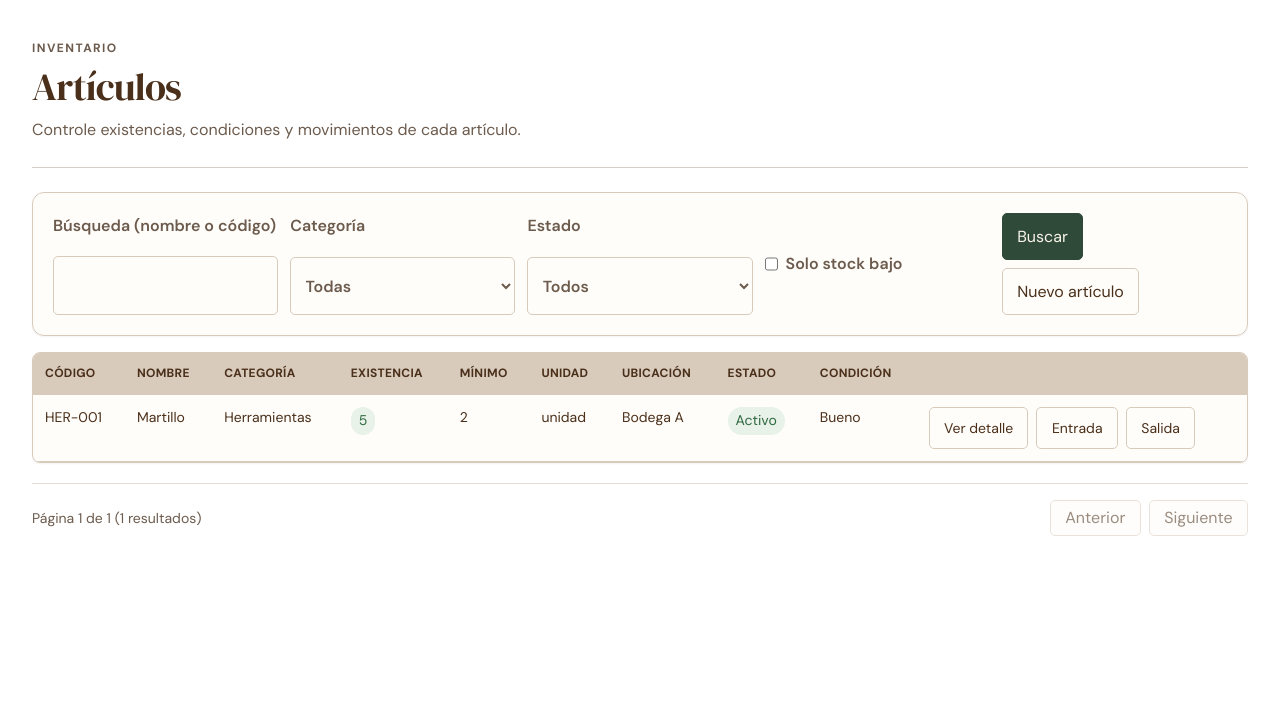
Test case: InventoryItemsPage › updates an existing item through the edit form
Click the button "Ver detalle": (979, 428) [929,407,1028,449]
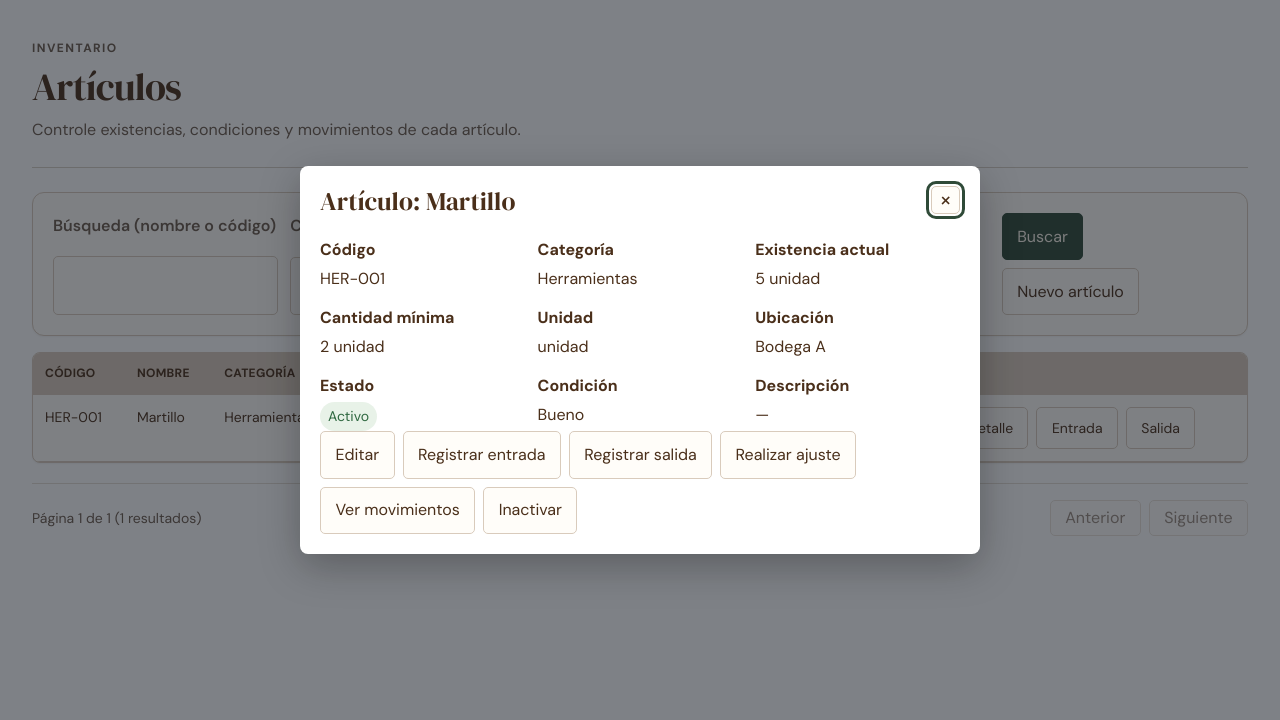
Now the dialog "Artículo: Martillo" is shown, box [300,166,980,554]
Click the button "Editar": (357, 455) [320,431,395,479]
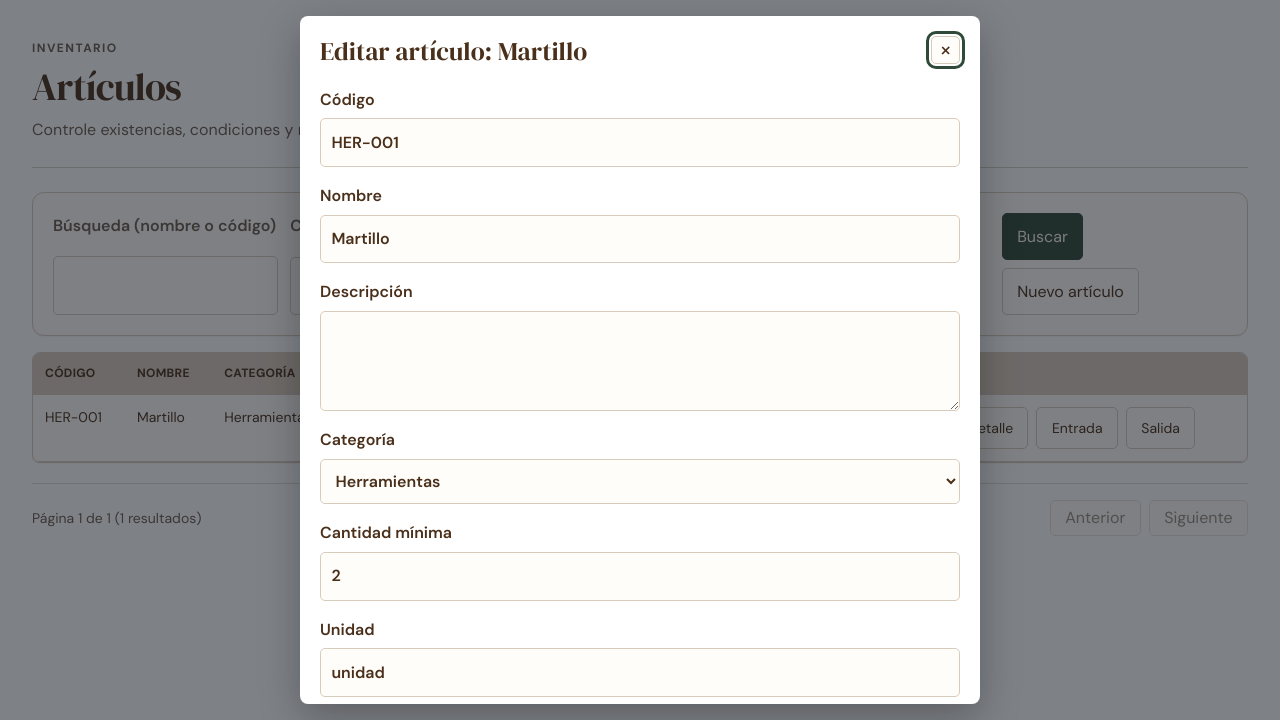
Replace the text in the field labelled "Nombre" with "Martillo reforzado": (640, 239) [320,215,960,264]
(page scrolled)
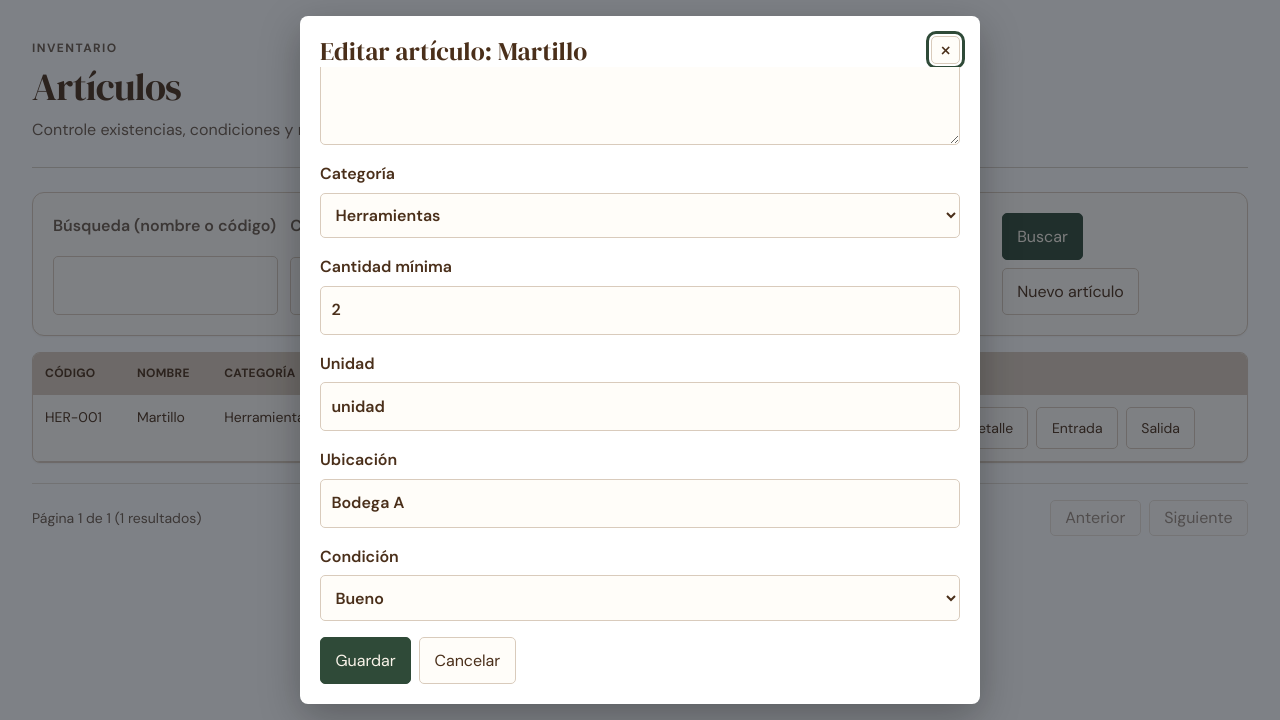
Click the button "Guardar": (366, 660) [320,637,411,684]
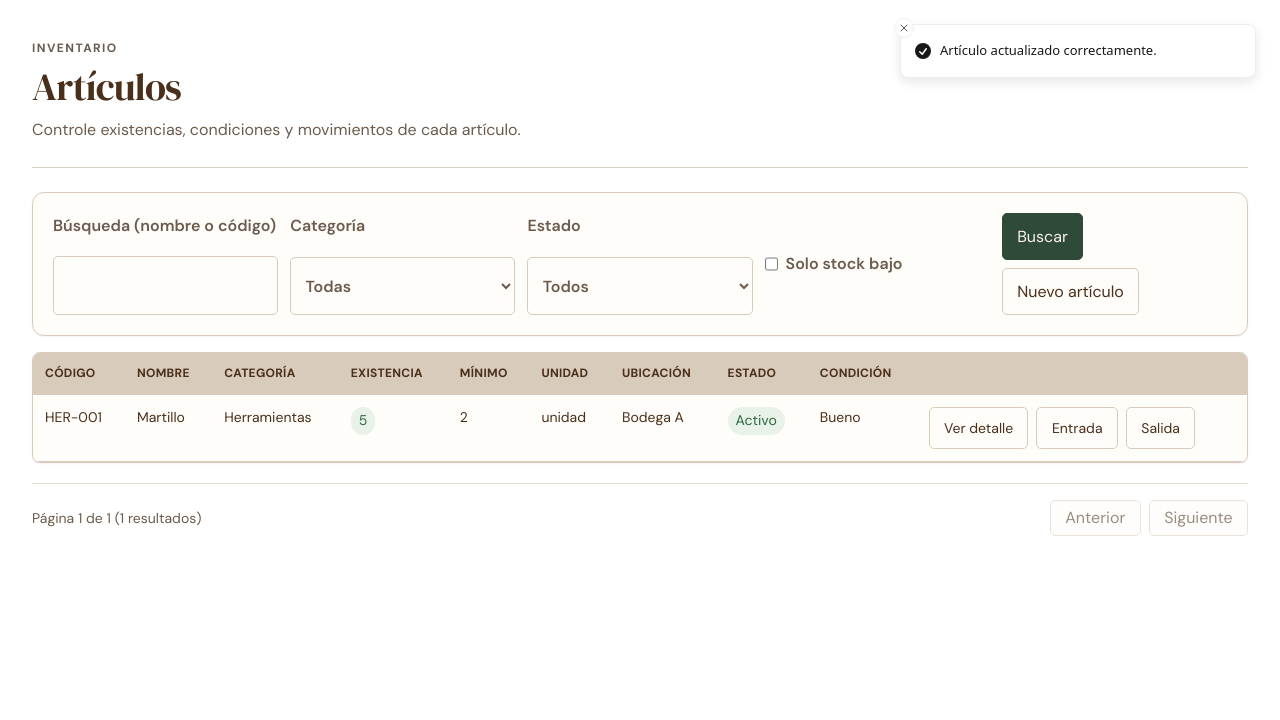
Now the text "Artículo actualizado correctamente." is shown, box [940,41,1157,60]
